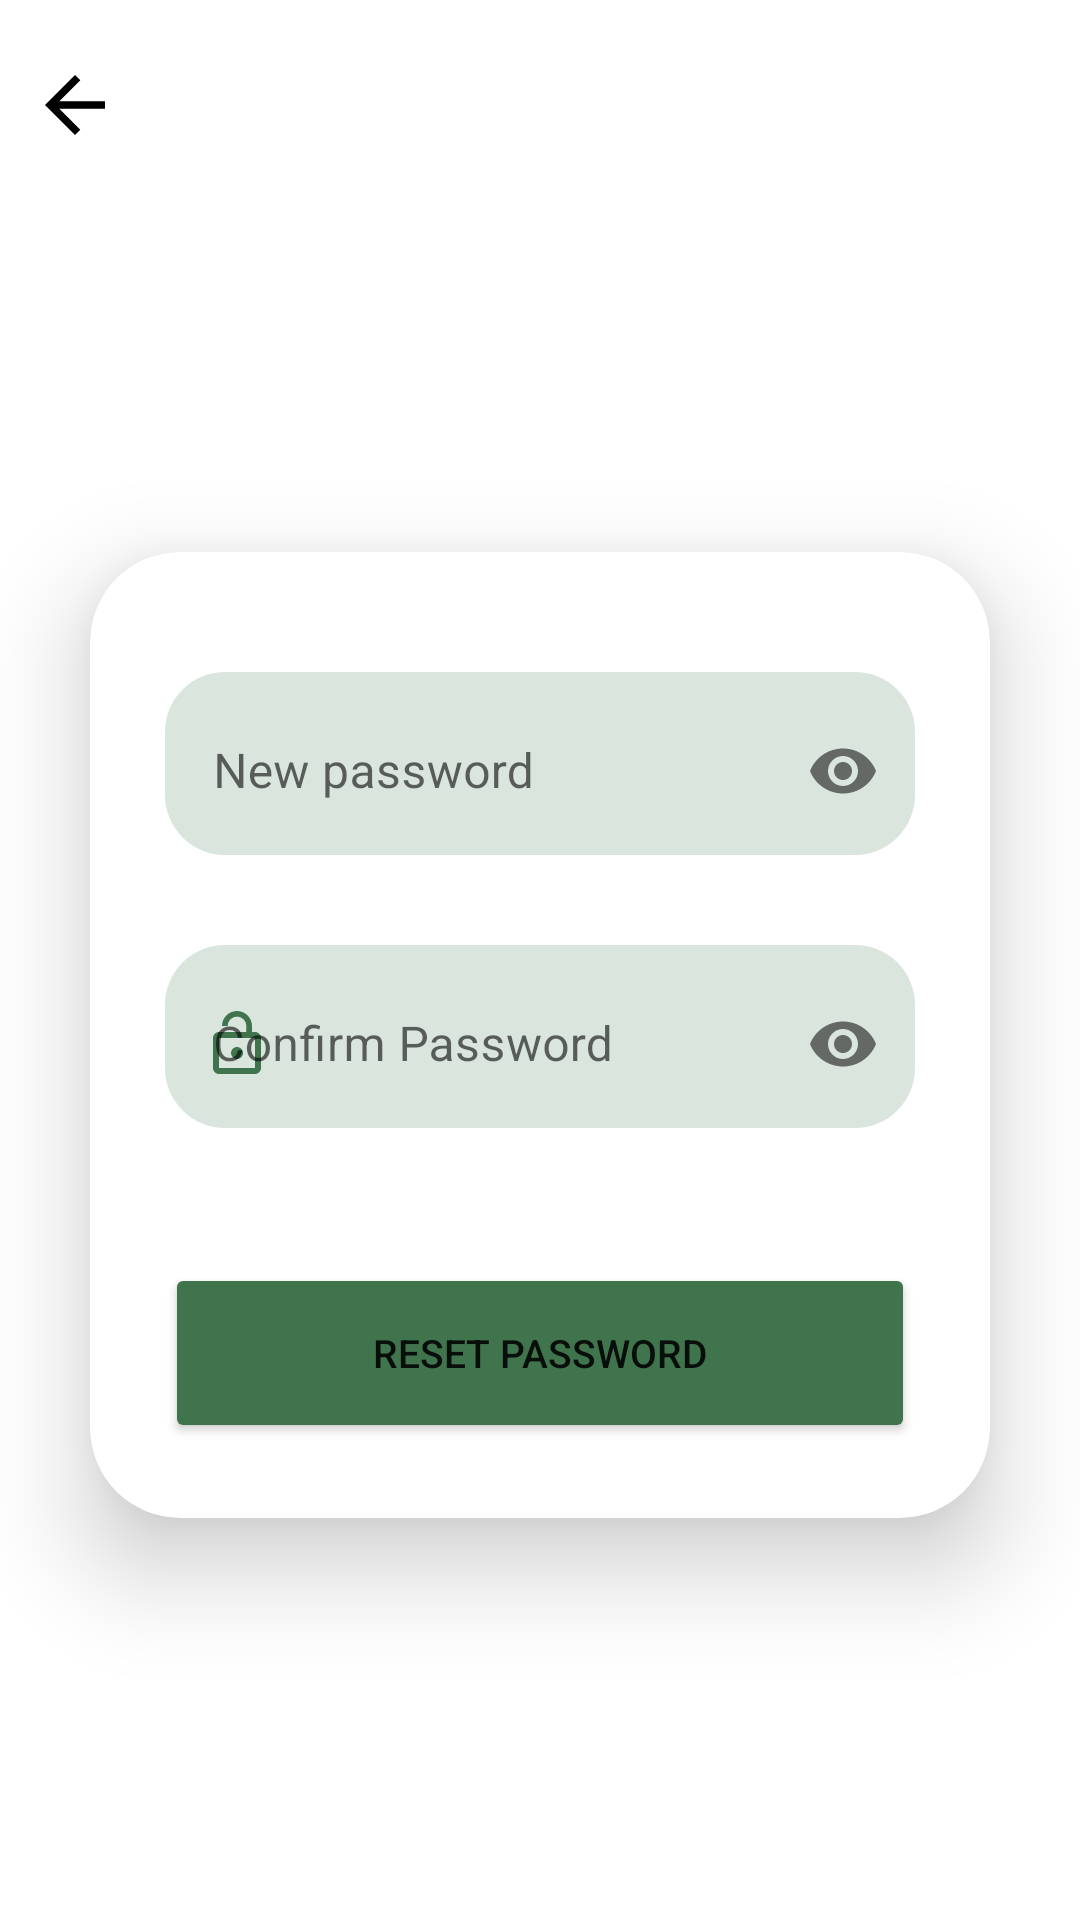

Screen size 1080 x 1920. Icon name, then its center in pixels as point (x, y):
back: point (75, 105)
